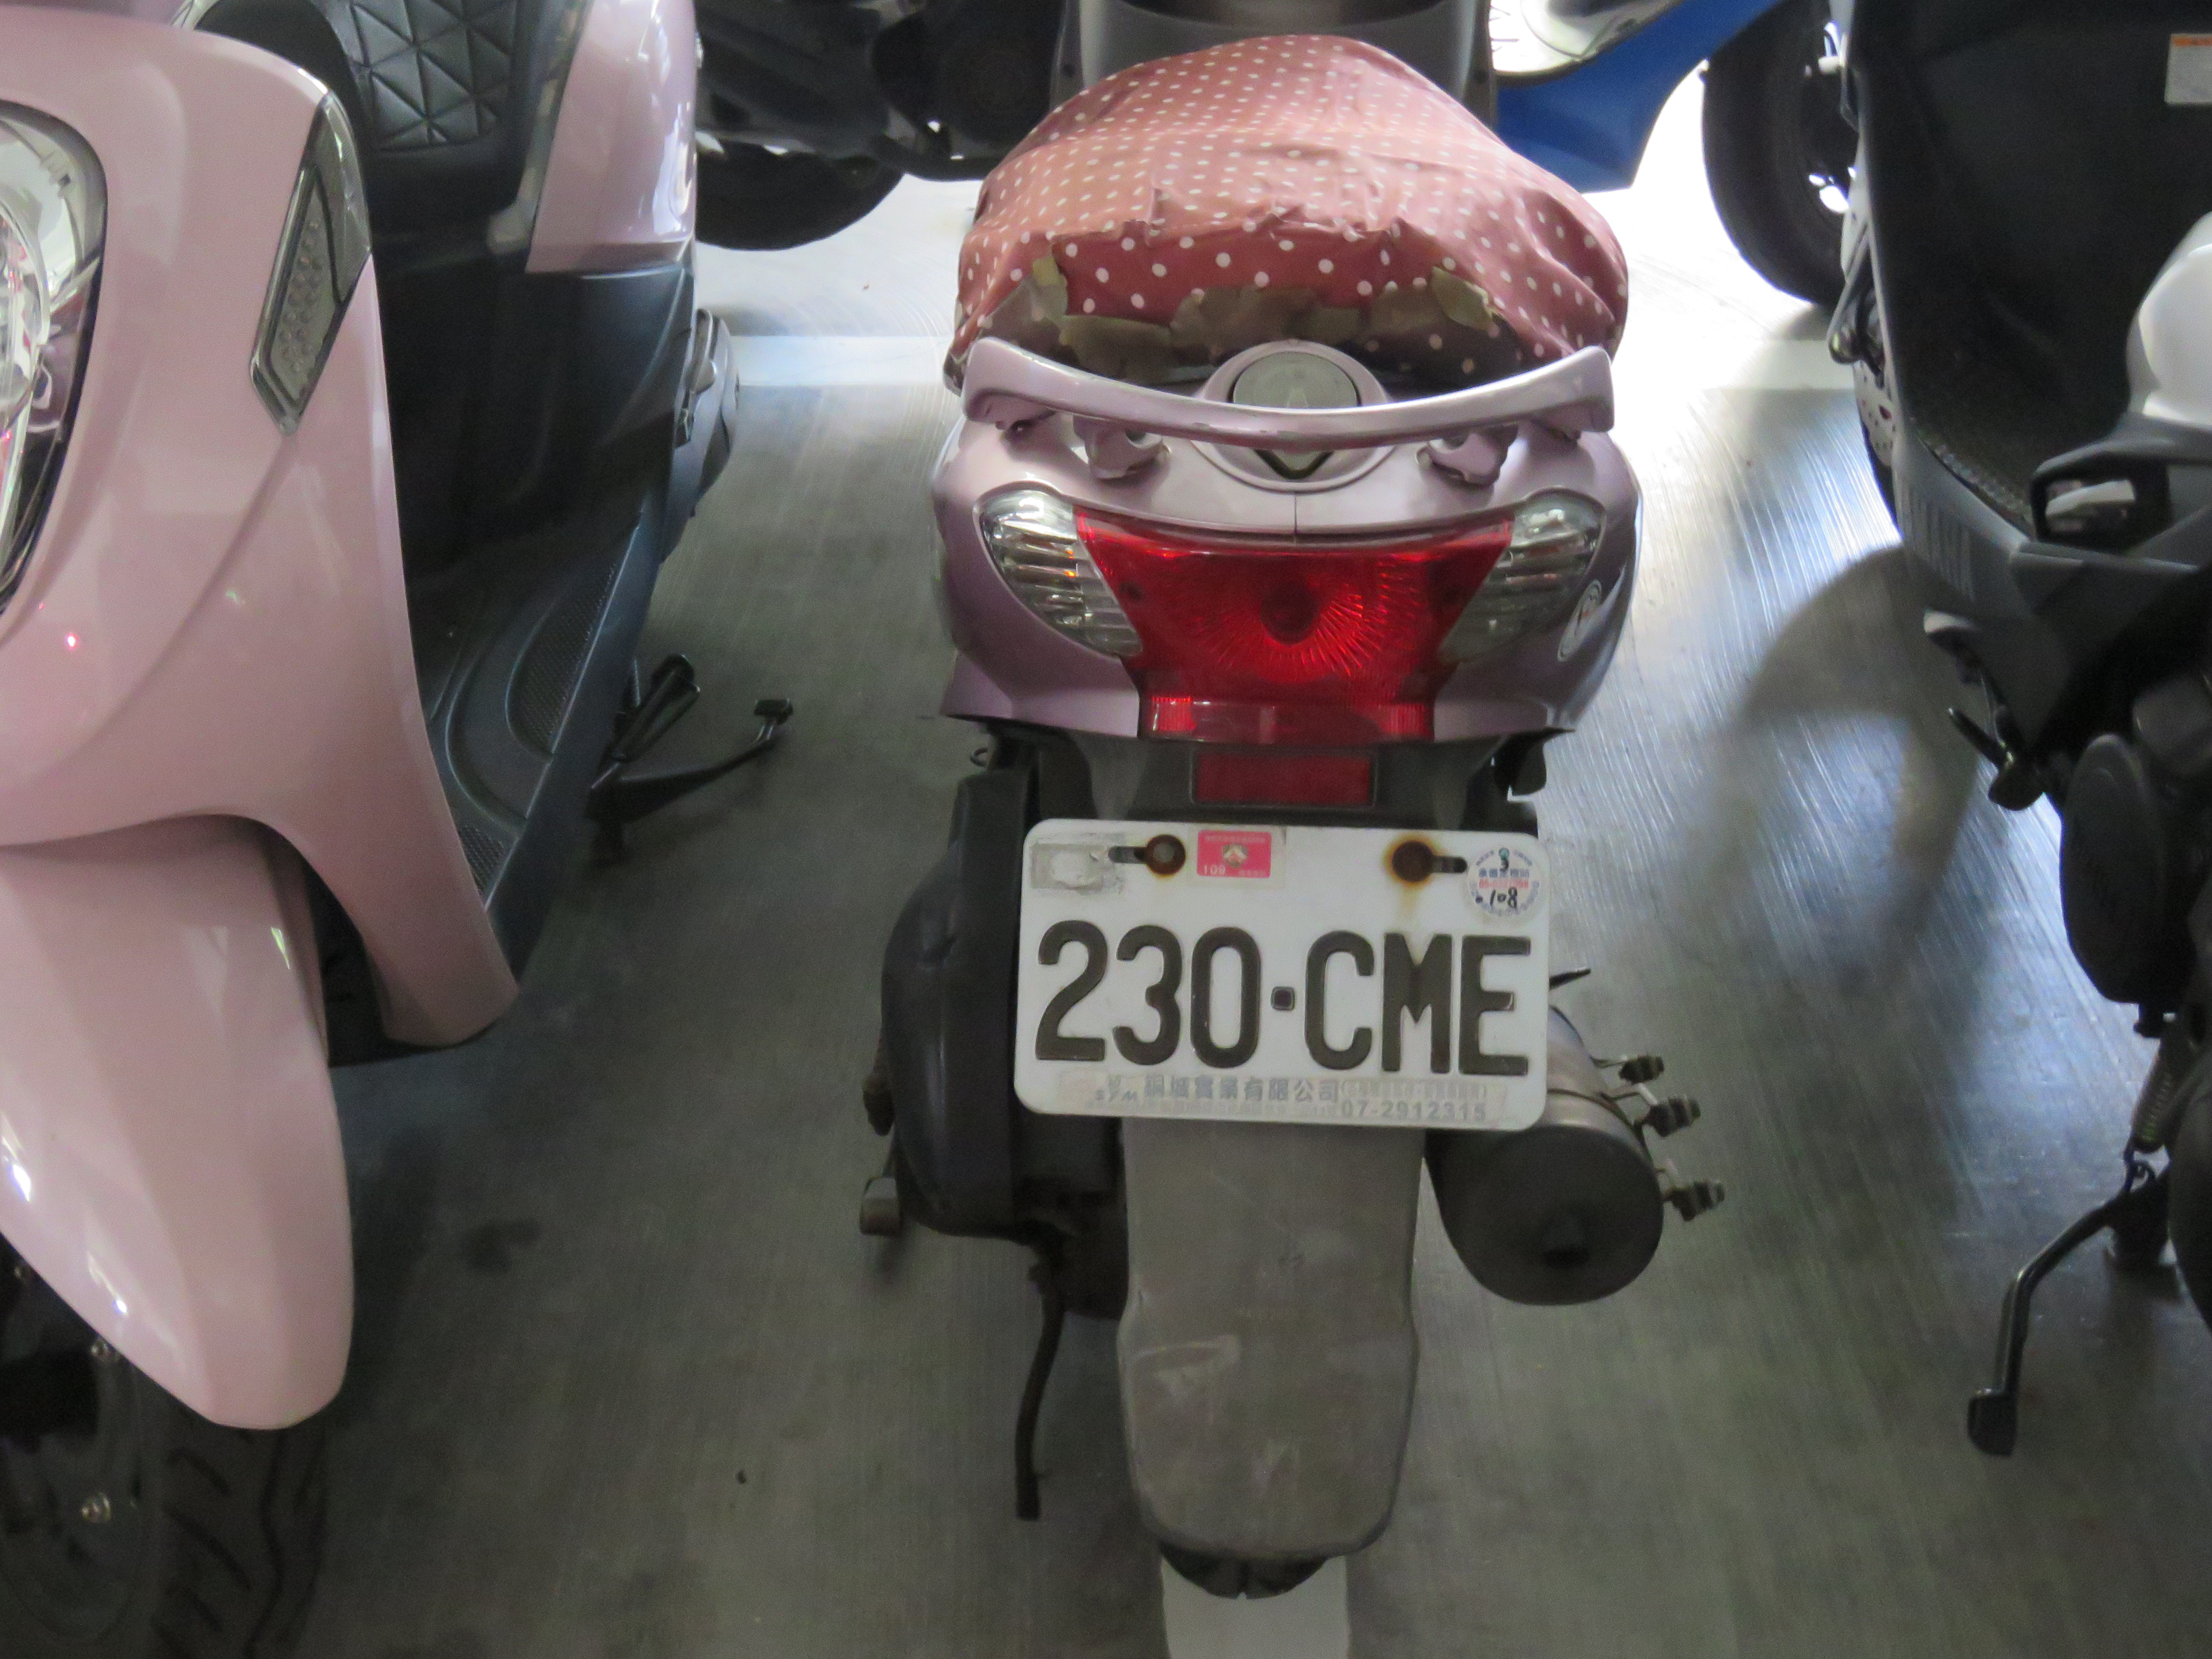car_card: (1019, 819, 1554, 1138)
moto: (3, 7, 744, 1617), (881, 64, 1639, 1589)
